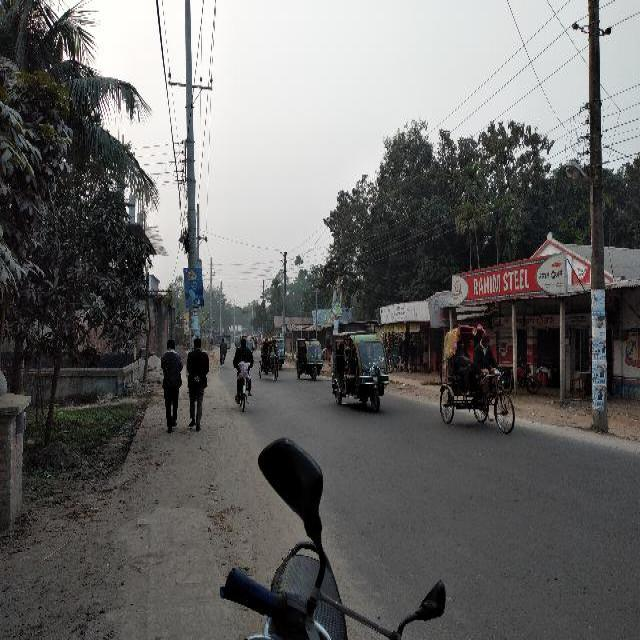10: (220, 435, 456, 637), (496, 363, 540, 394), (376, 353, 394, 375)
13: (437, 324, 515, 433), (258, 336, 280, 381)
Car: (330, 329, 390, 412), (294, 336, 324, 380), (271, 333, 287, 368), (242, 335, 252, 353), (222, 333, 230, 350), (234, 334, 240, 349), (215, 334, 222, 346)
Motorcycle: (232, 366, 252, 413), (220, 350, 227, 367), (254, 341, 258, 352)
